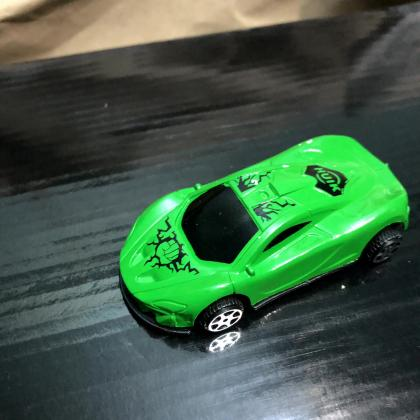Car: (118, 135, 411, 337)
